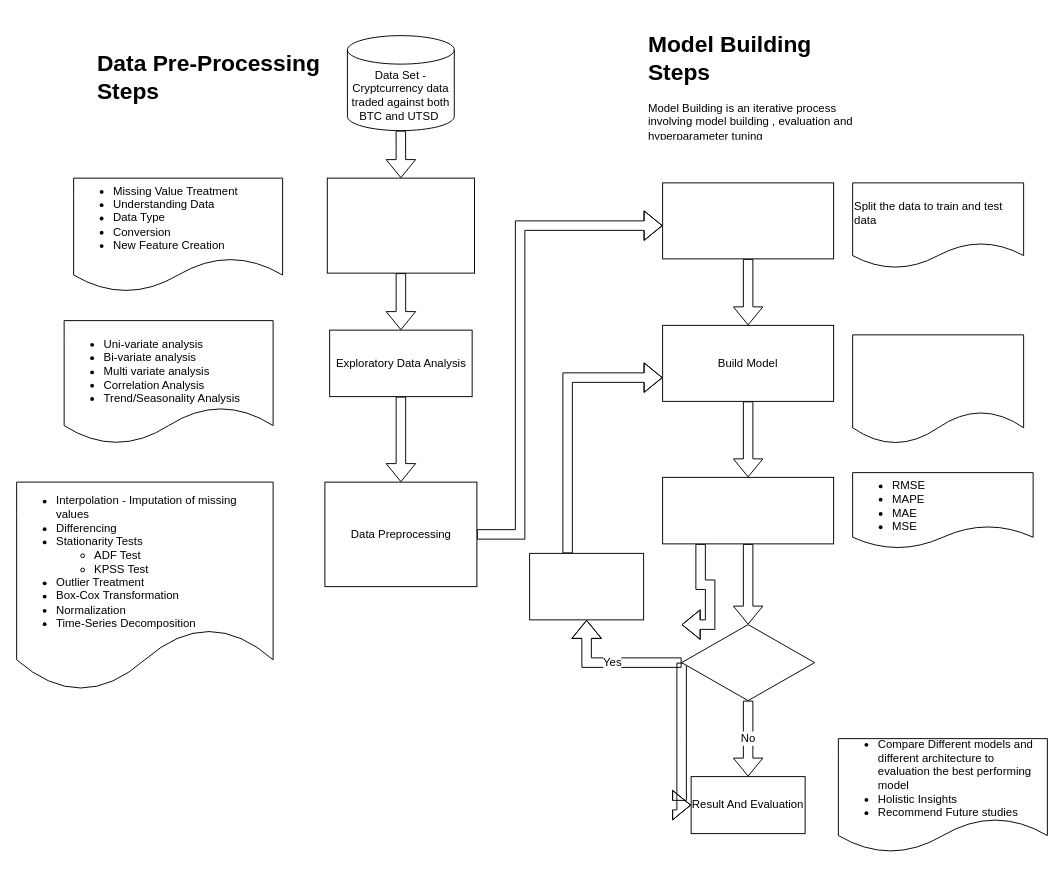
This 1064x869 diagram has some shape labels left out. The shapes that lost their labels are listed below. From the top down, each one's centre as x and y in pixels, then its label:
At (400,225): "Dataset Cleaning and Analysis".
At (748,220): "Train-Test Split".
At (938,389): "LSTM GRU CNN Bi-LSTM Transformer Models".
At (748,510): "Evaluate Model-".
At (586,586): "Hyper parameter tuning".
At (748,662): "Over Fitting / Under fitting ?".
